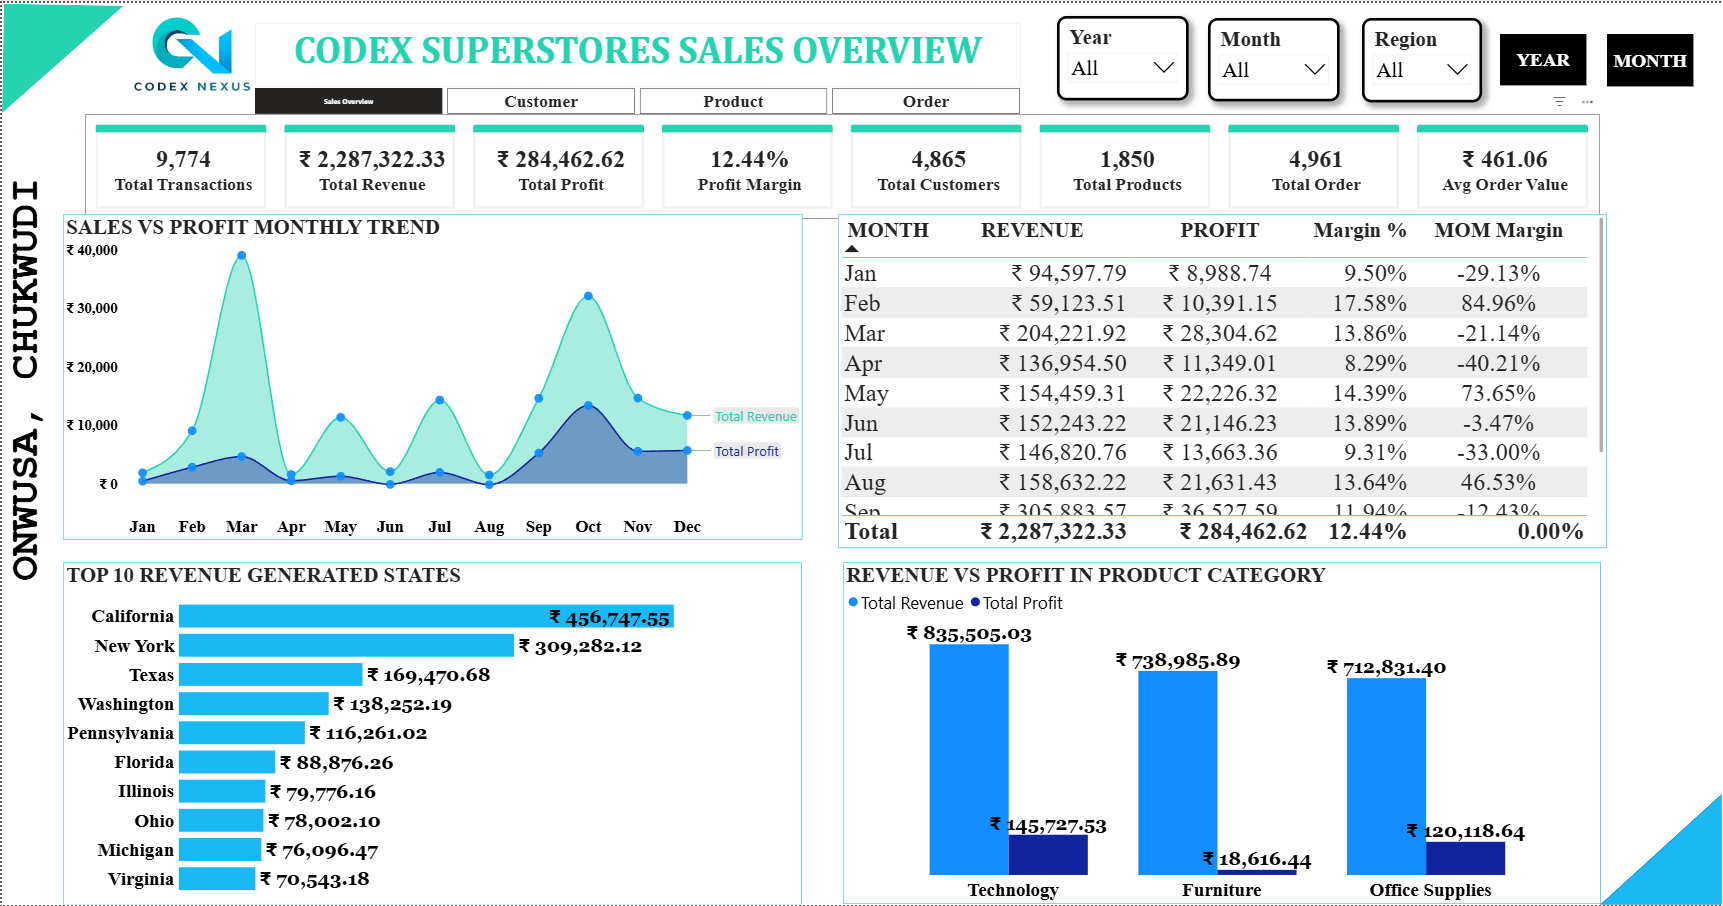

Layout of this report page (visuals, bound fields, positions):
{"tool":"powerbi","page":{"name":"Sales Overview","canvas":[3280,1720],"ordinal":0},"visuals":[{"type":"shape","box":[0,0,232.2,211.3],"z":0},{"type":"shape","box":[3047.8,1509,232.2,211.3],"z":1000},{"type":"shape","box":[0,199.4,87.2,1034.3],"z":2000},{"type":"textbox","box":[482.8,38.3,1459.5,121.8],"z":3000},{"type":"image","box":[232.2,0,250,199.4],"z":4000},{"type":"cardVisual","fields":{"Data":["My Measure.Total Transactions","My Measure.Total Revenue","My Measure.Total Profit","My Measure.Profit Margin","My Measure.Total Customers","My Measure.Total Products","My Measure.Total Order","My Measure.Avg Order Value"]},"box":[158.3,211,2889,201.7],"z":5000},{"type":"lineChart","title":"SALES VS PROFIT MONTHLY TREND","fields":{"Y":["My Measure.Total Revenue","My Measure.Total Profit"],"Category":["Date Table.Short Month"]},"box":[116.4,402.4,1409.5,621],"z":6000},{"type":"clusteredColumnChart","title":"REVENUE VS PROFIT IN PRODUCT CATEGORY","fields":{"Y":["My Measure.Total Revenue","My Measure.Total Profit"],"Category":["dimProduct.Category"]},"box":[1604,1066.3,1444.8,651.8],"z":7000},{"type":"tableEx","fields":{"Values":["Date Table.Short Month","My Measure.Total Revenue","My Measure.Total Profit","My Measure.Margin %","My Measure.MOM Margin"]},"box":[1594.9,402.5,1465.8,636.8],"z":8000},{"type":"slicer","fields":{"Values":["dimCustomer.Region"]},"box":[2592.6,28.1,229.1,160.8],"z":9000},{"type":"clusteredBarChart","title":"TOP 10 REVENUE GENERATED STATES","fields":{"Category":["dimCustomer.State"],"Y":["My Measure.Total Revenue"]},"box":[117.1,1066.3,1408.7,654.8],"z":10000},{"type":"actionButton","box":[3060.9,58.3,164.8,100.5],"z":11000},{"type":"actionButton","box":[2855.9,58.3,164.8,98.5],"z":12000},{"type":"slicer","fields":{"Values":["Date Table.Year"]},"box":[2011.8,24.1,251.2,160.8],"z":15000},{"type":"slicer","fields":{"Values":["Date Table.Short Month"]},"box":[2299.2,28.1,251.2,158.8],"z":16000},{"type":"pageNavigator","box":[482.4,162.1,1458.8,49.6],"z":17000}]}

Visuals, with their boxes in screenshot pixels (x1, y1, x2, y2), scaled from the page's 3280x1720 canvas onto the 1723x906 screenshot:
shape: 0:0:122:111
shape: 1601:795:1722:905
shape: 0:105:46:650
textbox: 254:20:1020:84
image: 122:0:253:105
cardVisual - My Measure.Total Transactions x My Measure.Total Revenue: 83:111:1601:217
"SALES VS PROFIT MONTHLY TREND" lineChart: 61:212:802:539
"REVENUE VS PROFIT IN PRODUCT CATEGORY" clusteredColumnChart: 843:562:1602:905
tableEx - Date Table.Short Month x My Measure.Total Revenue: 838:212:1608:547
slicer - dimCustomer.Region: 1362:15:1482:100
"TOP 10 REVENUE GENERATED STATES" clusteredBarChart: 62:562:802:905
actionButton: 1608:31:1694:84
actionButton: 1500:31:1587:83
slicer - Date Table.Year: 1057:13:1189:97
slicer - Date Table.Short Month: 1208:15:1340:98
pageNavigator: 253:85:1020:112
